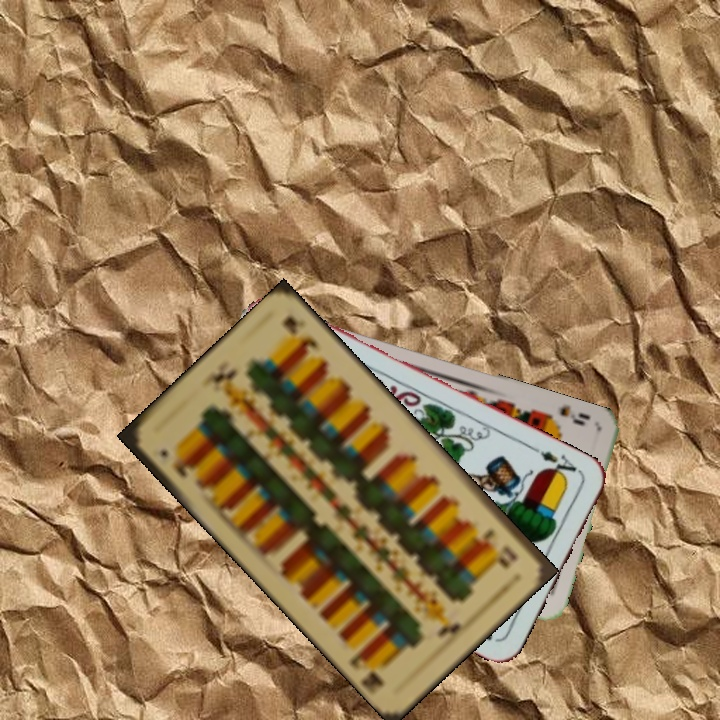E10: (479, 525, 520, 568), (156, 445, 196, 481)
EA: (529, 443, 584, 483)
S9: (538, 402, 593, 429)
